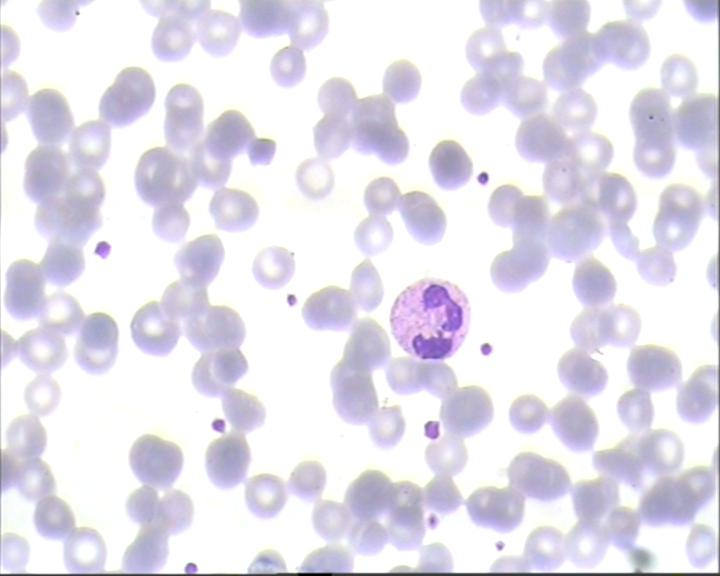neut: (389, 274, 471, 362)
